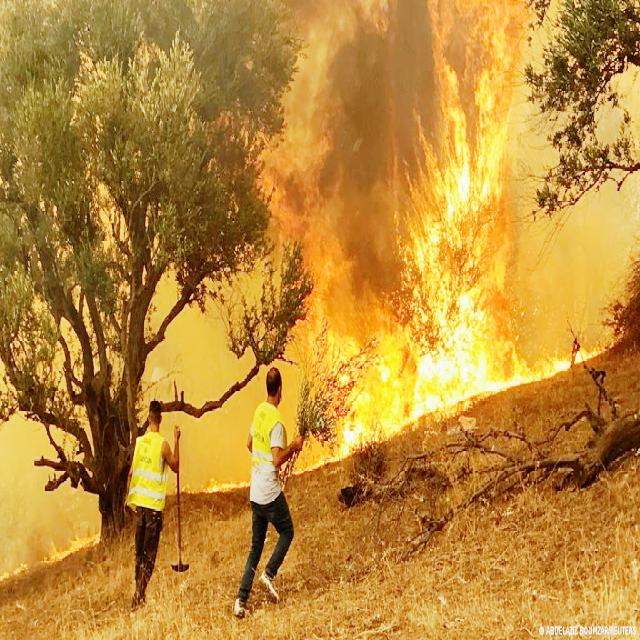api: (414, 22, 522, 319), (331, 324, 526, 392), (293, 274, 394, 369), (349, 387, 470, 432), (531, 346, 602, 387)
asap: (276, 3, 417, 270)
